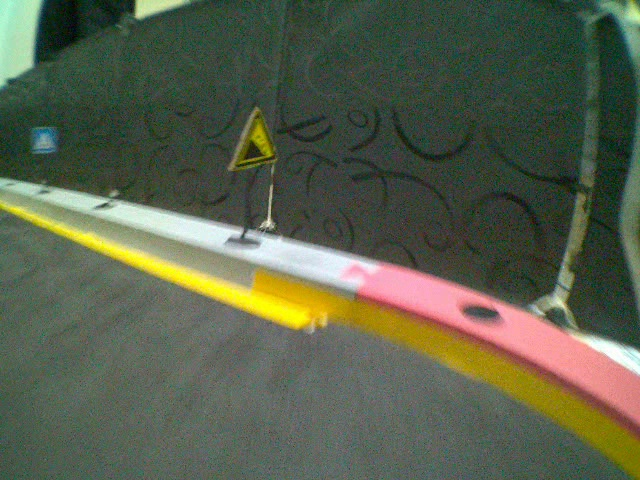crossing: (30, 126, 57, 157)
fast: (221, 105, 281, 169)
